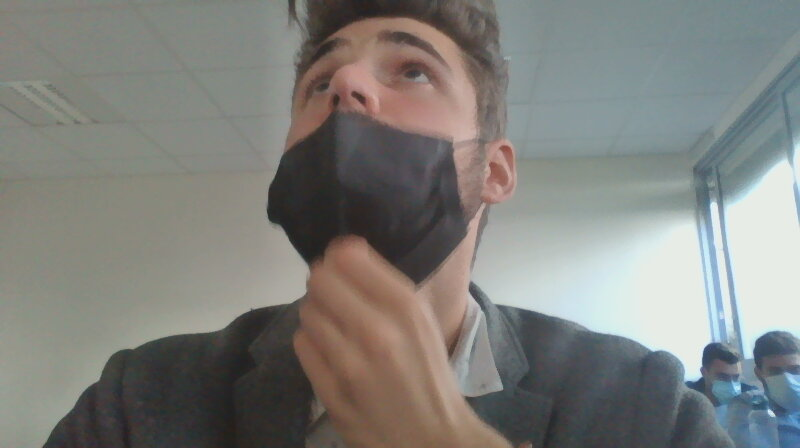with_incorrect_mask: (250, 7, 503, 286)
with_mask: (697, 348, 747, 410), (759, 345, 800, 411)
